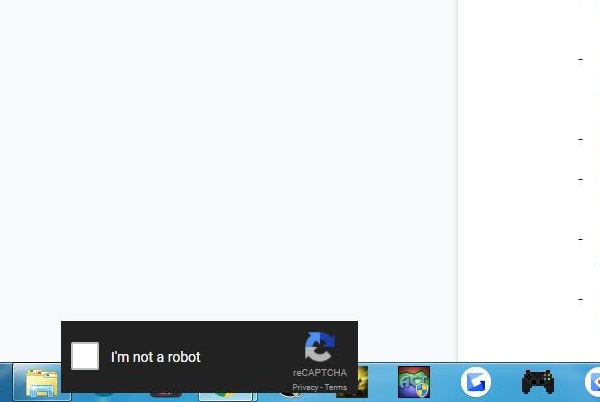captcha: (70, 341, 206, 370)
